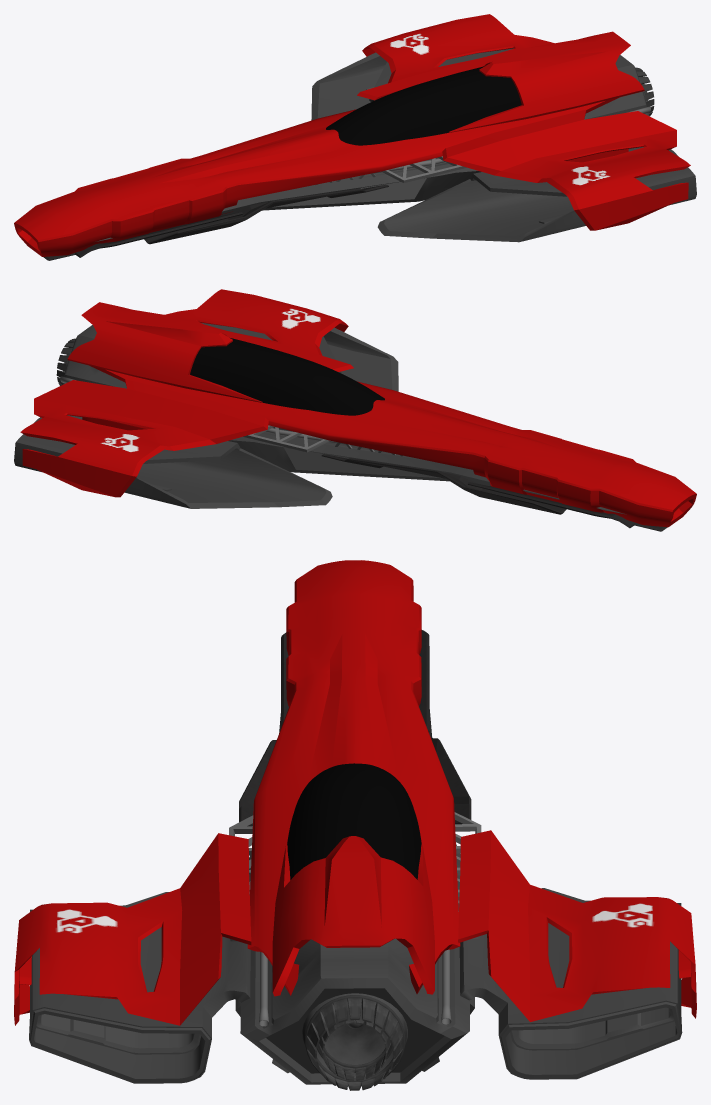
Rendered from Terrain.obj.
The picture shows the model from 3 angles, top to bottom: view 1: azimuth 30°, elevation 25°; view 2: azimuth 150°, elevation 25°; view 3: azimuth 270°, elevation 25°; orthographic projection. The views are drawn at different scales.
Parts seen in each view (by area): view 1: Ship; view 2: Ship; view 3: Ship.
Boxes of the visible parts, left/top/right/bottom form: Ship: left=14, top=14, right=696, bottom=260; Ship: left=14, top=289, right=696, bottom=531; Ship: left=14, top=560, right=696, bottom=1090.
Bounding box in the file's own units: 8.09 × 1.36 × 4.95.
Materials: 1 (1 with a texture image).
